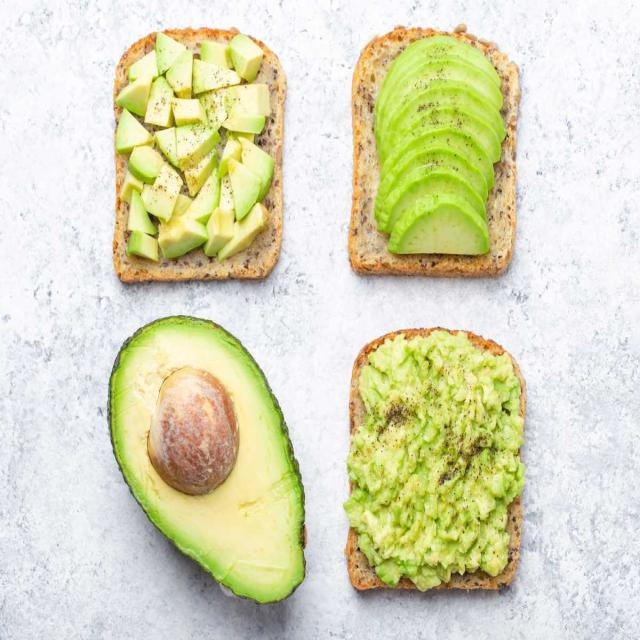aguacate: (88, 308, 316, 614), (345, 328, 530, 598), (108, 33, 282, 276), (360, 34, 515, 274)
